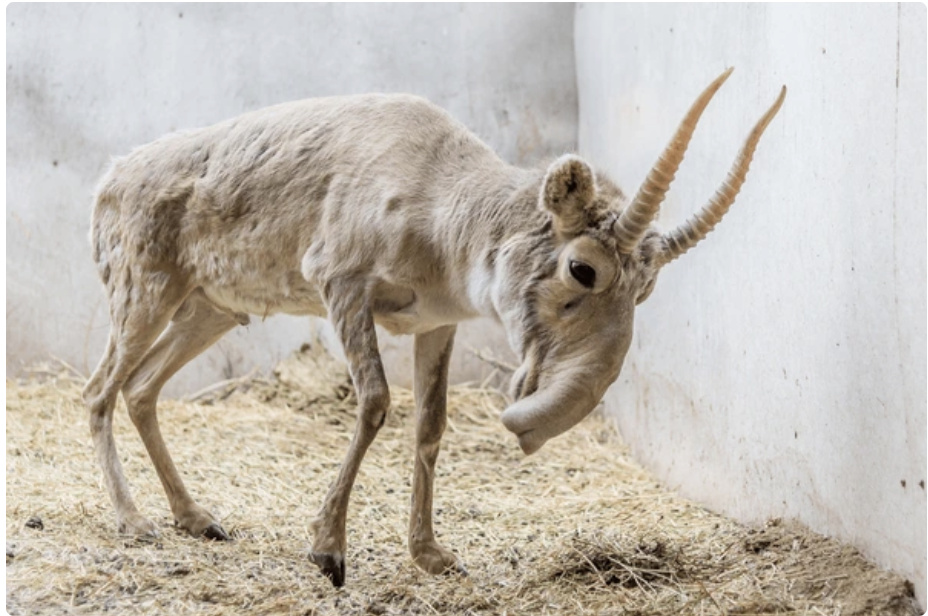saiga: (70, 54, 795, 615)
